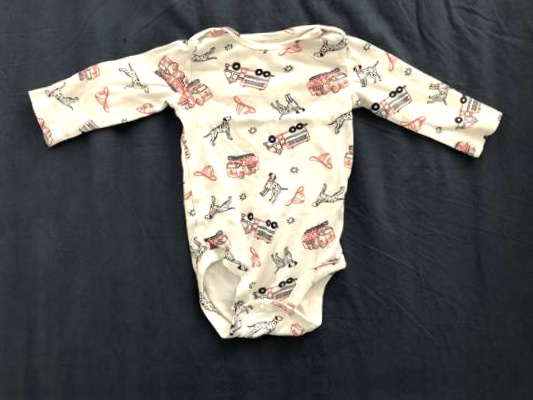Body: (13, 4, 509, 357)
